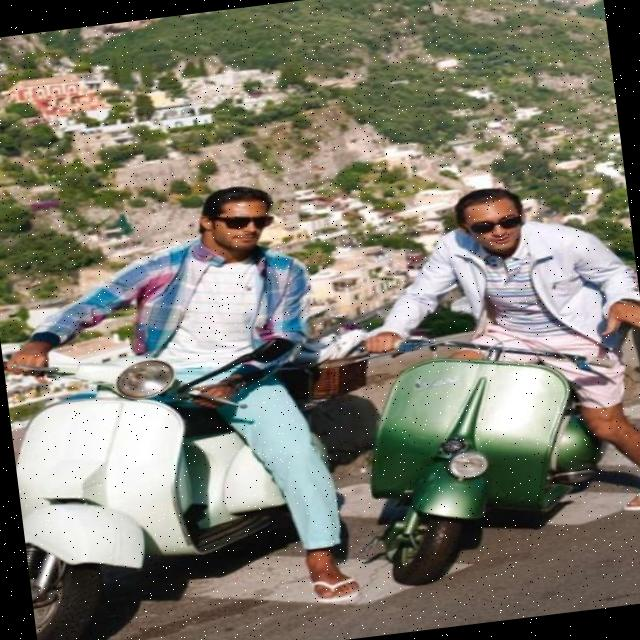No helmet: (184, 170, 286, 268), (452, 168, 542, 258)
